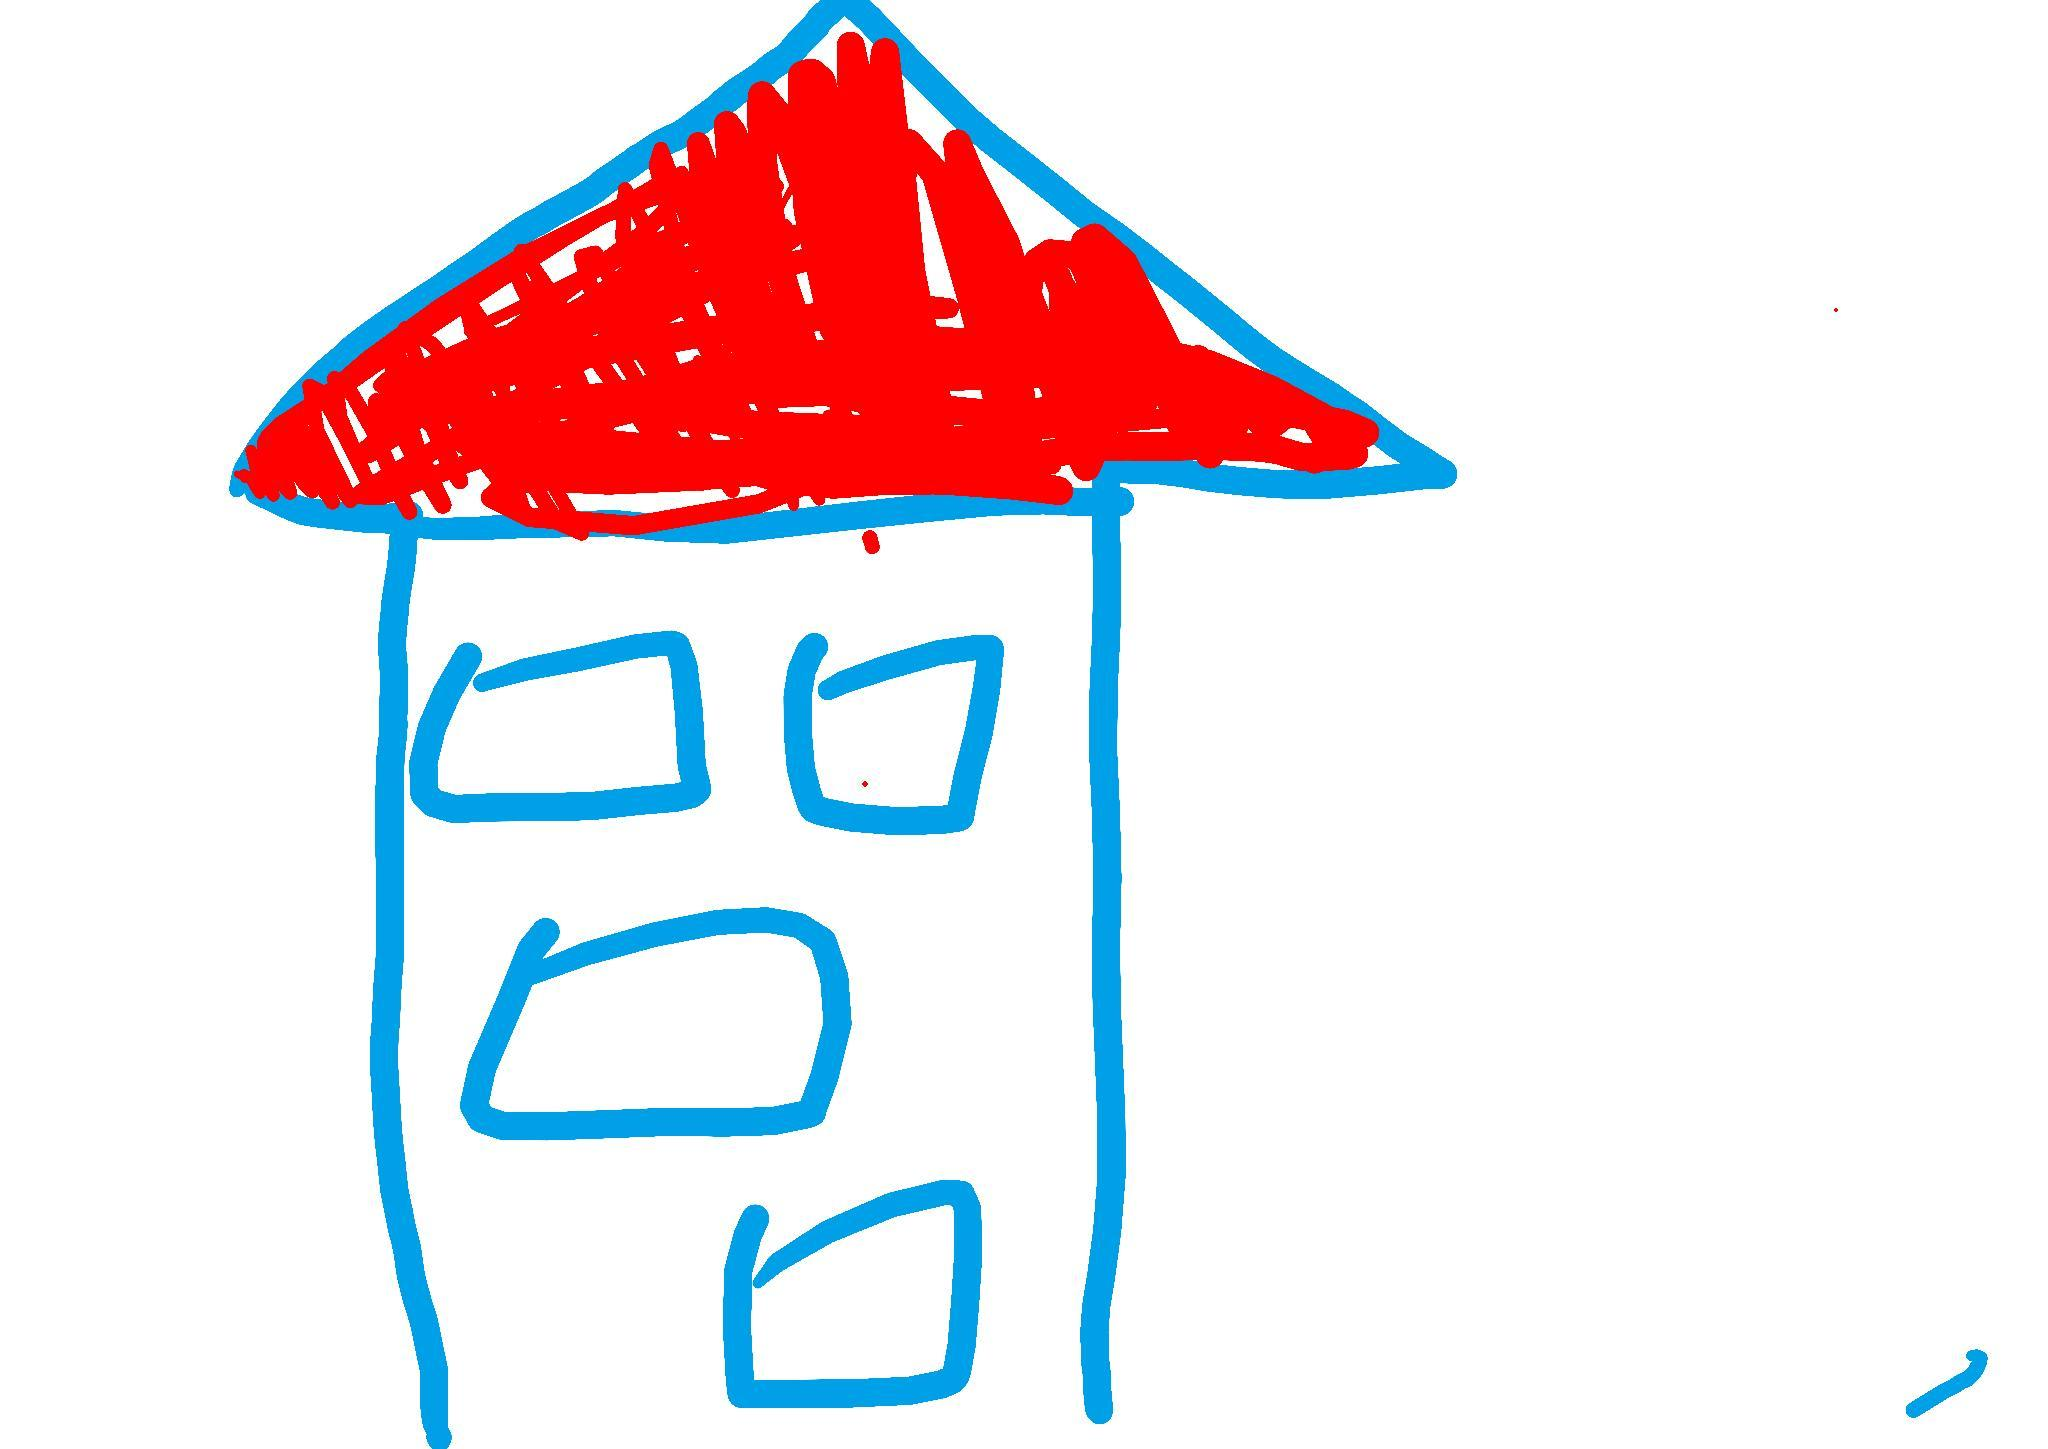house: (232, 0, 1455, 1447)
roof: (235, 28, 1382, 536)
wall: (373, 516, 1104, 1447)
window: (458, 908, 852, 1142), (724, 1182, 982, 1411), (409, 630, 710, 823), (784, 634, 1005, 836)
